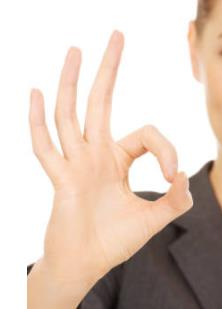left: (23, 28, 190, 261)
